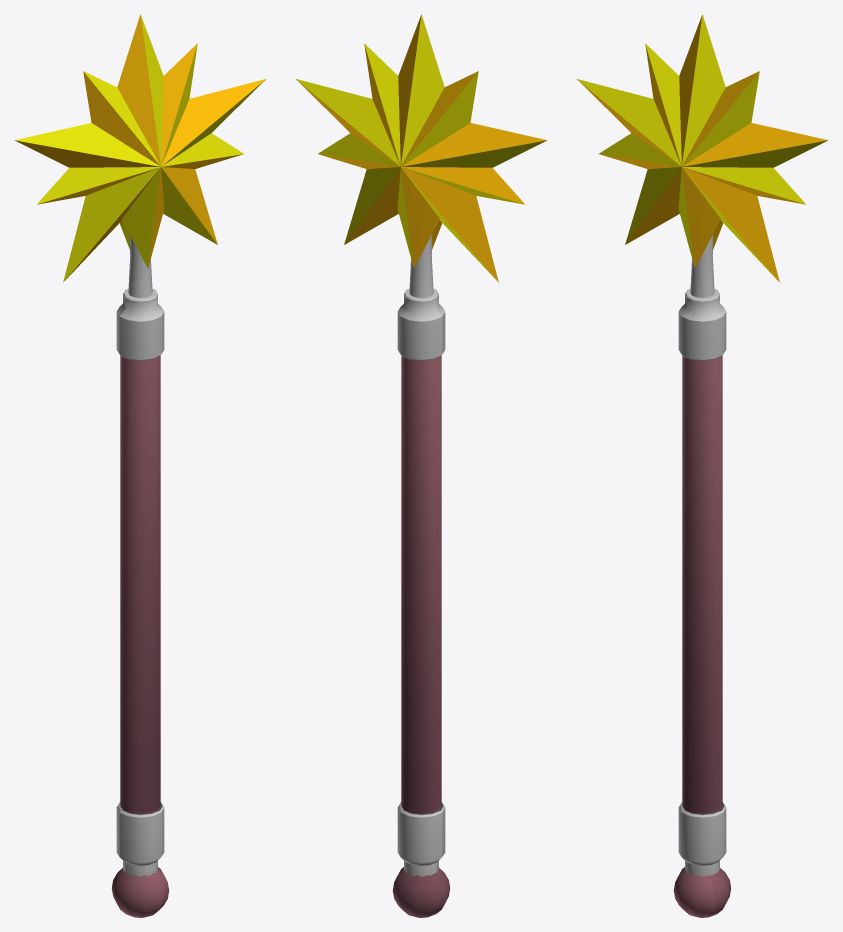
Rendered from 023 - Varita Magica.fbx.
3 renders of one model, left to right at view 1: azimuth 30°, elevation 25°; view 2: azimuth 150°, elevation 25°; view 3: azimuth 330°, elevation 25°, orthographic.
Visible parts, largest first — view 1: Barrita_Magica_Básica; view 2: Barrita_Magica_Básica; view 3: Barrita_Magica_Básica.
Part boxes in pixels (x1=…): Barrita_Magica_Básica: x1=15, y1=14, x2=265, y2=917; Barrita_Magica_Básica: x1=296, y1=14, x2=546, y2=917; Barrita_Magica_Básica: x1=577, y1=14, x2=827, y2=917.
Bounding box in the file's own units: 19.61 × 66.98 × 5.57.
